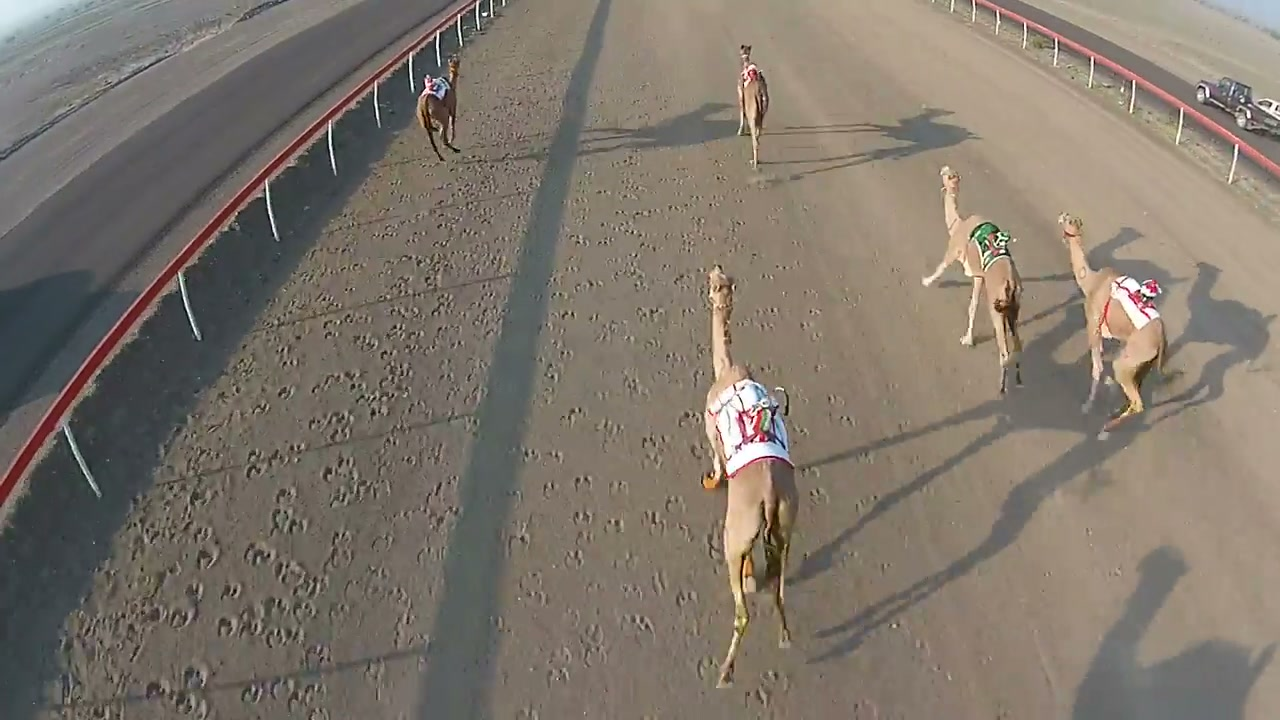animal_foot_print: (120, 178, 469, 708), (733, 178, 920, 657), (540, 160, 706, 640)
